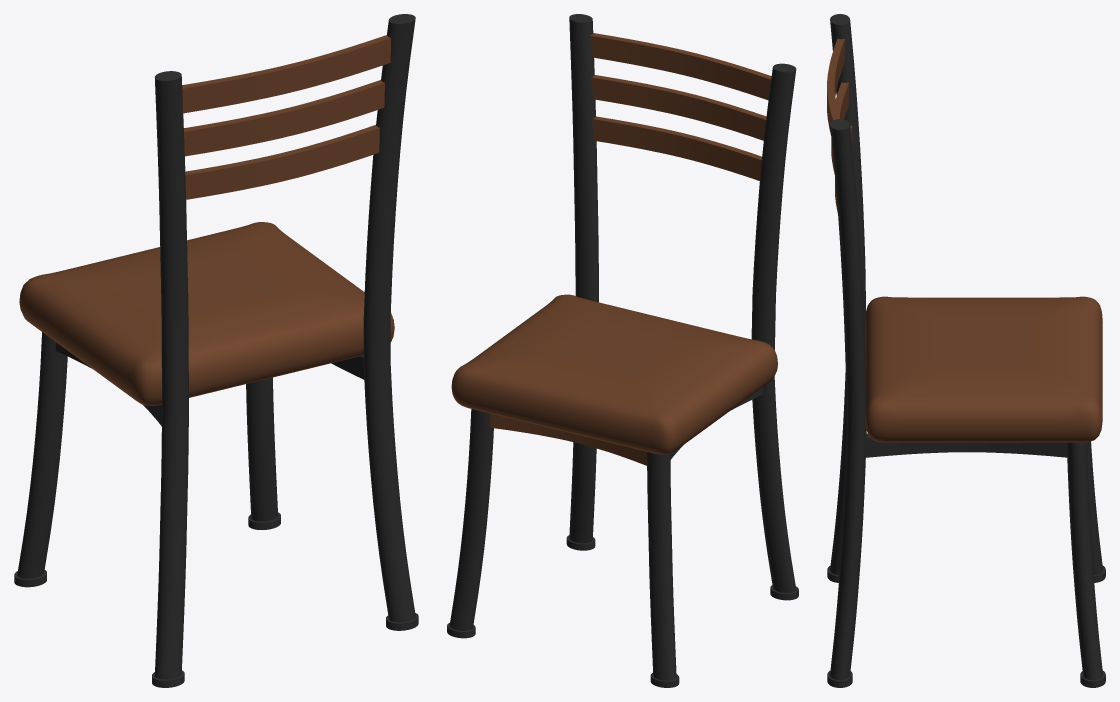
File: Chaise1_9.fbx
3 renders of one model, left to right at view 1: azimuth 30°, elevation 25°; view 2: azimuth 150°, elevation 25°; view 3: azimuth 270°, elevation 25°, orthographic. The views are drawn at different scales.
Visible parts, largest first — view 1: pCube2654, pCylinder1646, pCylinder1647, pCylinder1651, pCylinder1650, pCylinder1648, pCube2653, pCube2652, pCube2651, pCylinder1649; view 2: pCube2654, pCylinder1646, pCylinder1647, pCylinder1648, pCylinder1649, pCylinder1651, pCube2653, pCube2652, pCube2651, pCylinder1650, pCube2659; view 3: pCube2654, pCylinder1647, pCylinder1650, pCylinder1649, pCylinder1646, pCube2655, pCylinder1651, pCylinder1648, pCube2653, pCube2652.
Part boxes in pixels (x1,y1,x2,y2): pCube2654: (19, 222, 394, 405); pCylinder1646: (154, 71, 188, 416); pCylinder1647: (363, 14, 415, 367); pCylinder1651: (152, 411, 188, 687); pCylinder1650: (363, 362, 418, 630); pCylinder1648: (14, 332, 67, 587); pCube2653: (182, 35, 391, 113); pCube2652: (184, 80, 384, 156); pCube2651: (185, 125, 379, 199); pCylinder1649: (246, 377, 280, 529); pCube2654: (451, 294, 777, 454); pCylinder1646: (751, 63, 796, 349); pCylinder1647: (569, 14, 598, 302); pCylinder1648: (647, 452, 679, 687); pCylinder1649: (447, 409, 493, 638); pCylinder1651: (752, 376, 798, 600); pCube2653: (590, 33, 771, 100); pCube2652: (591, 75, 766, 140); pCube2651: (592, 116, 761, 180); pCylinder1650: (566, 442, 596, 550); pCube2659: (490, 413, 646, 465); pCube2654: (865, 296, 1102, 442); pCylinder1647: (830, 119, 866, 440); pCylinder1650: (827, 436, 865, 687); pCylinder1649: (1067, 442, 1105, 687); pCylinder1646: (830, 14, 866, 337); pCube2655: (865, 433, 1067, 457); pCylinder1651: (827, 373, 846, 582); pCylinder1648: (1087, 441, 1105, 582); pCube2653: (827, 38, 844, 134); pCube2652: (831, 82, 848, 174).
Bounding box in the file's own units: 38.53 × 84.55 × 38.35.
